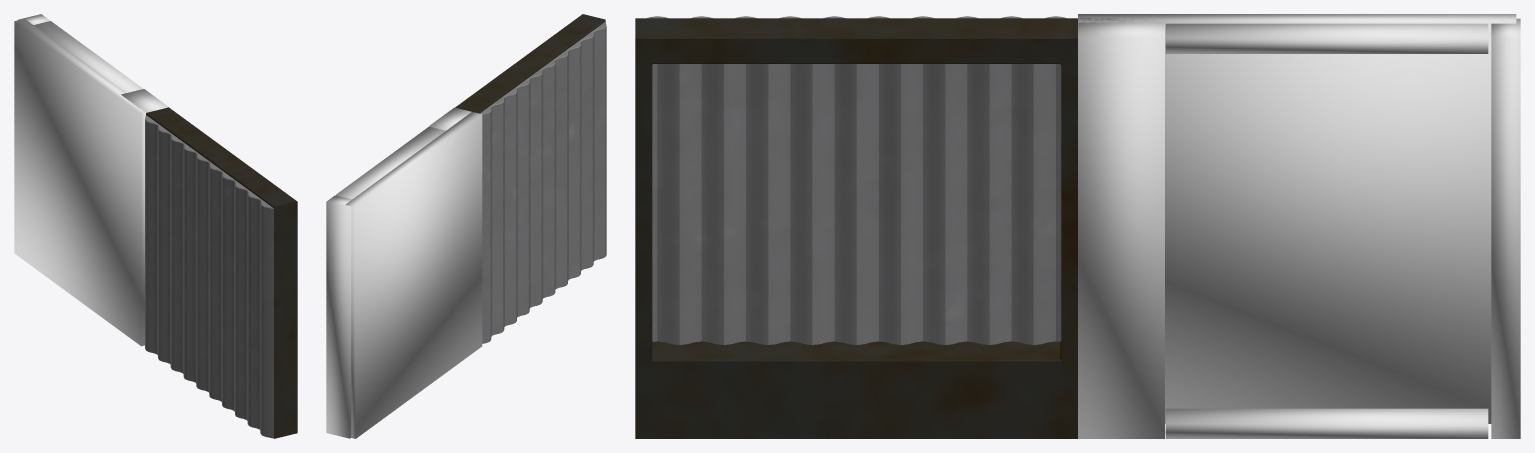
File: SM_Wall_Half_MidHeight.fbx
The picture shows the model from 3 angles, left to right: view 1: azimuth 30°, elevation 25°; view 2: azimuth 150°, elevation 25°; view 3: azimuth 270°, elevation 25°; orthographic projection. The views are drawn at different scales.
Visible parts, largest first — view 1: SM_Wall_Half_MidHeight, SM_Wall_Half_MidHeight_ConvexHulls; view 2: SM_Wall_Half_MidHeight_ConvexHulls, SM_Wall_Half_MidHeight; view 3: SM_Wall_Half_MidHeight_ConvexHulls, SM_Wall_Half_MidHeight.
Part boxes in pixels (x1,y1,x2,y2): SM_Wall_Half_MidHeight: [145, 107, 297, 438]; SM_Wall_Half_MidHeight_ConvexHulls: [14, 14, 169, 346]; SM_Wall_Half_MidHeight_ConvexHulls: [326, 107, 482, 438]; SM_Wall_Half_MidHeight: [455, 14, 606, 343]; SM_Wall_Half_MidHeight_ConvexHulls: [1078, 14, 1520, 438]; SM_Wall_Half_MidHeight: [635, 16, 1077, 438].
Size of the model in its own units: 0.2 by 1.5 by 3.
